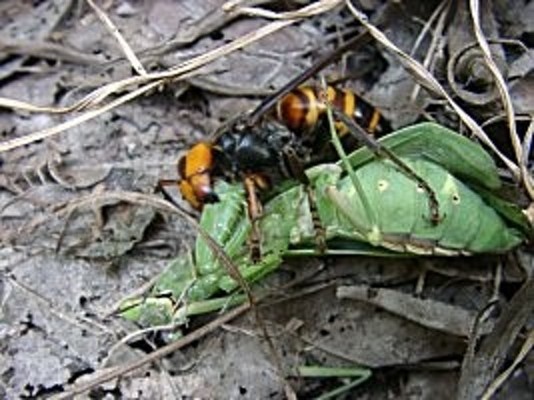asian_giant_hornet: (165, 43, 405, 214)
